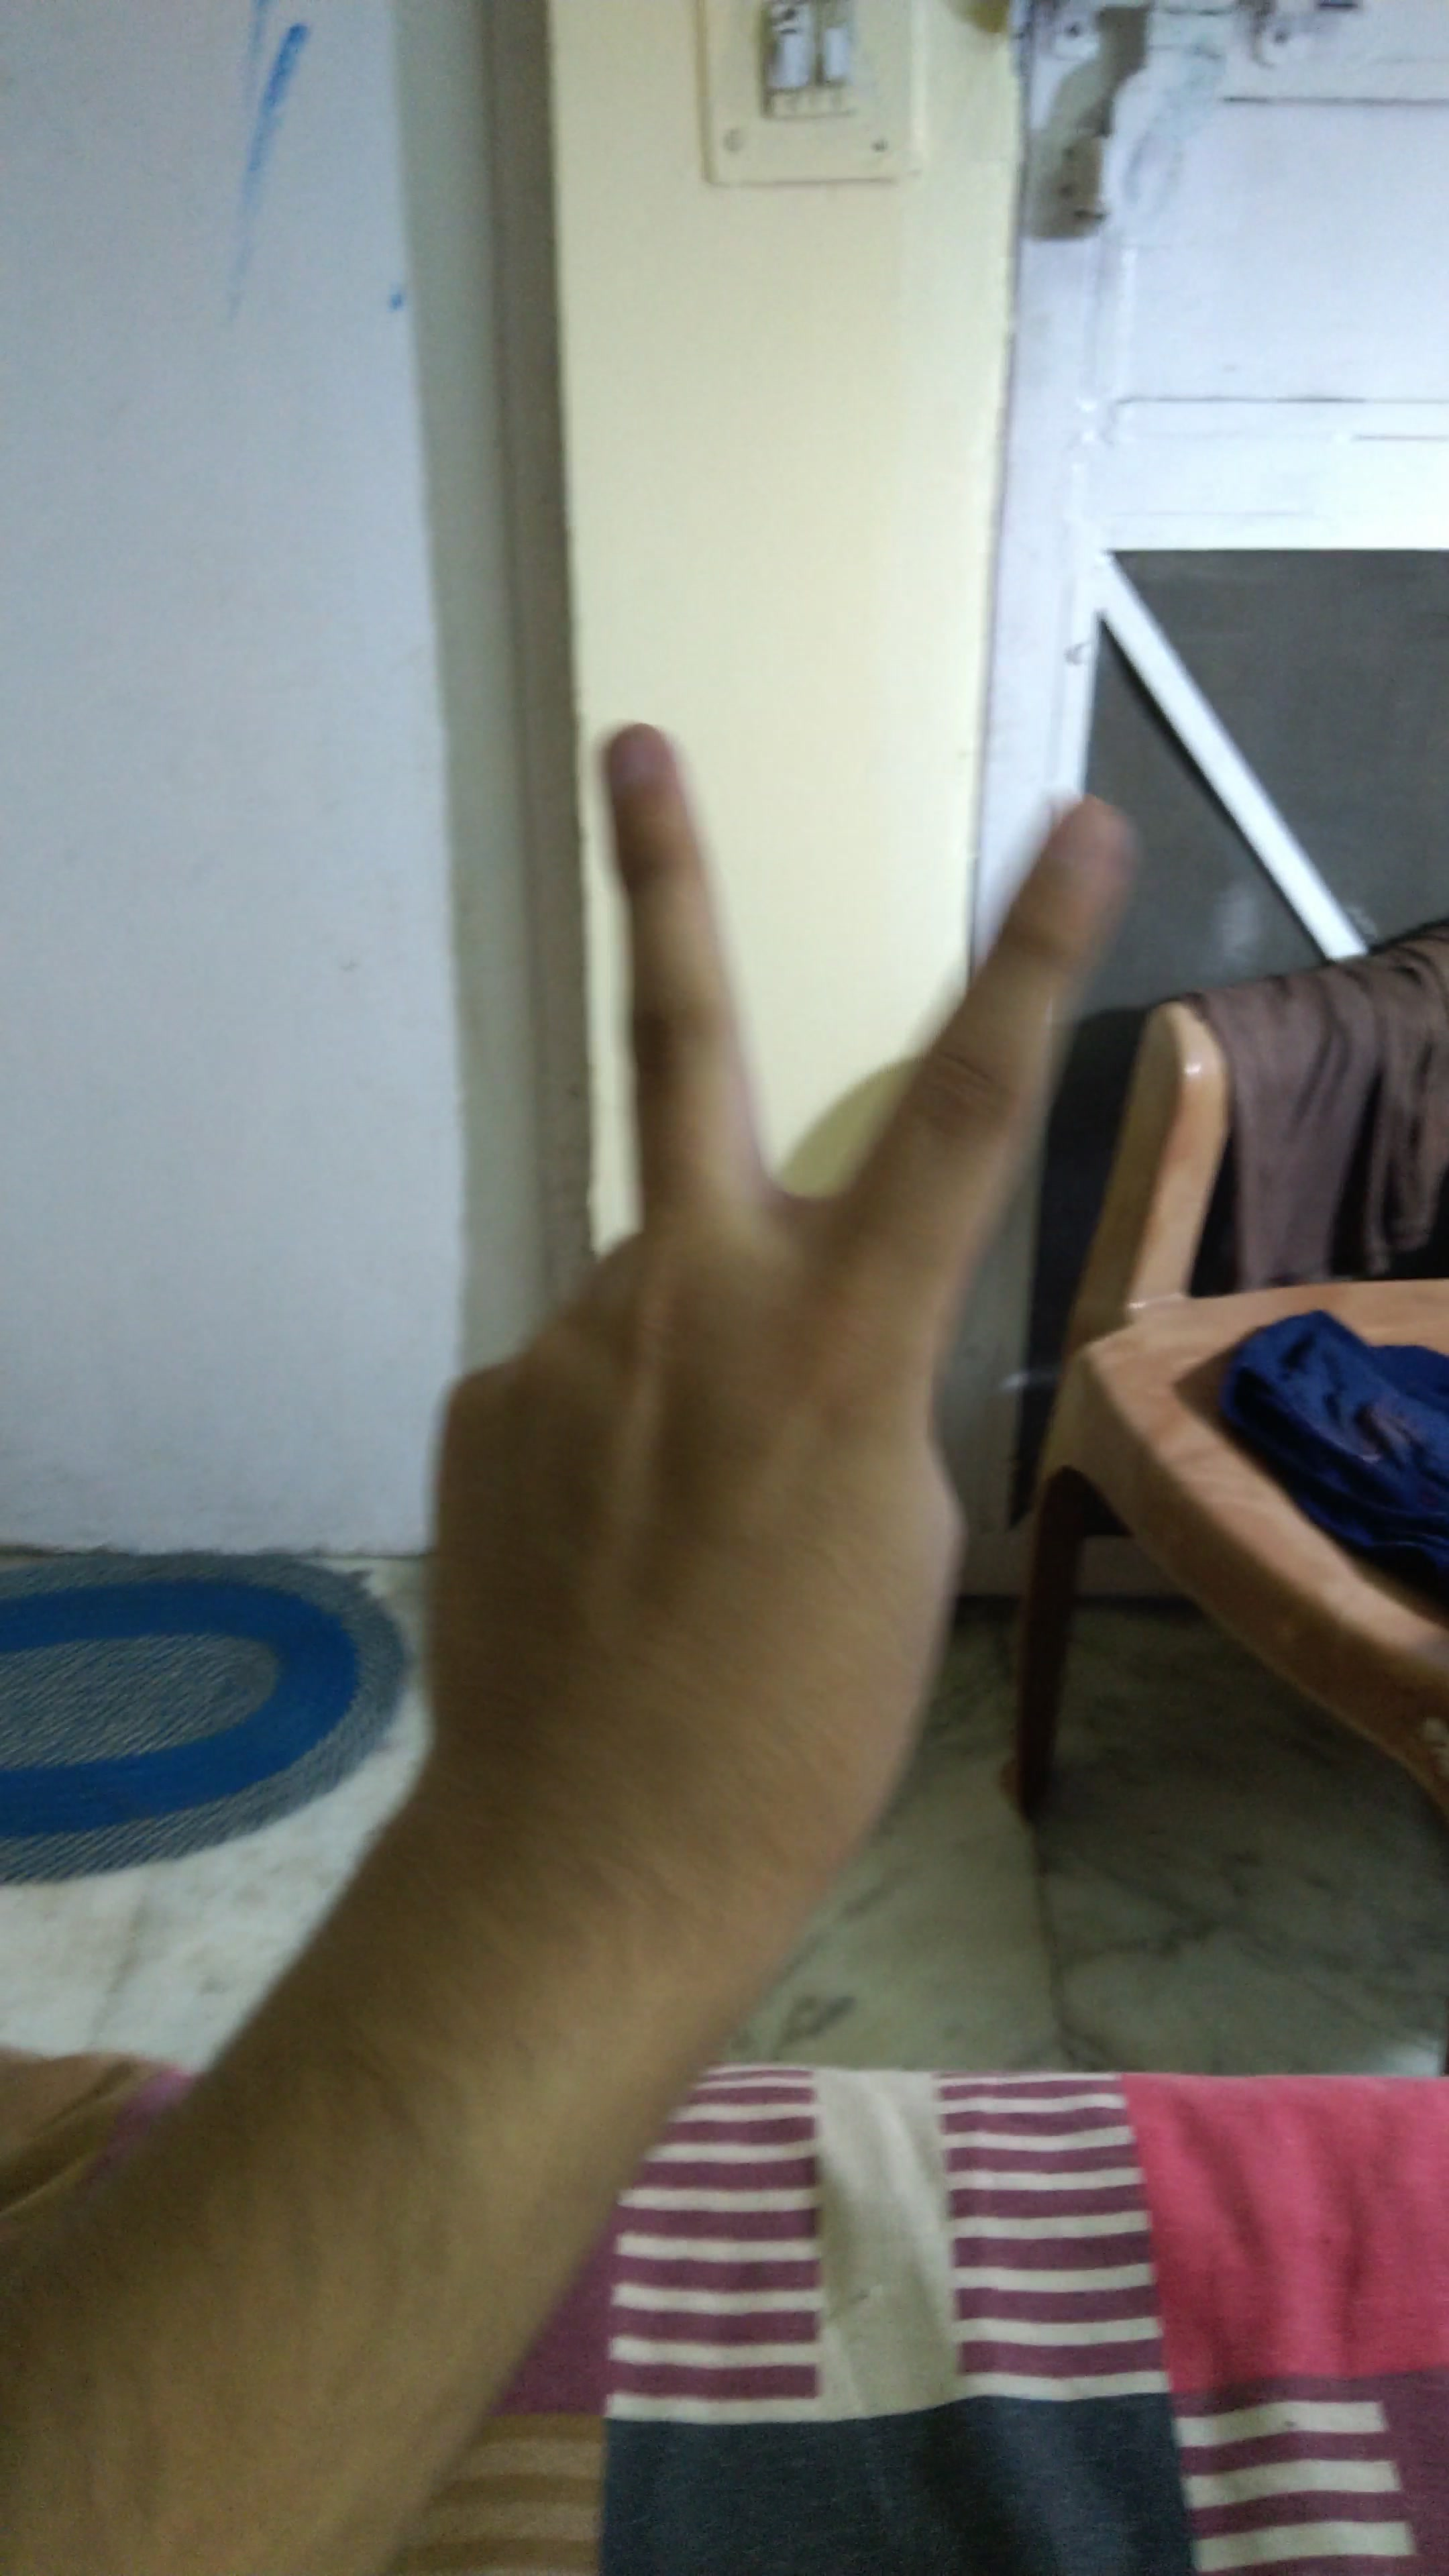hand: (308, 686, 1207, 1959)
